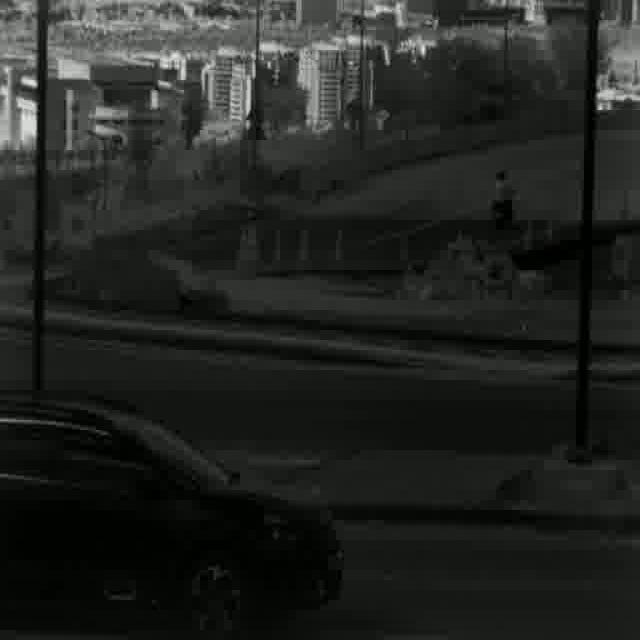Car: (0, 395, 343, 639)
Motorcycle: (488, 164, 518, 234)
